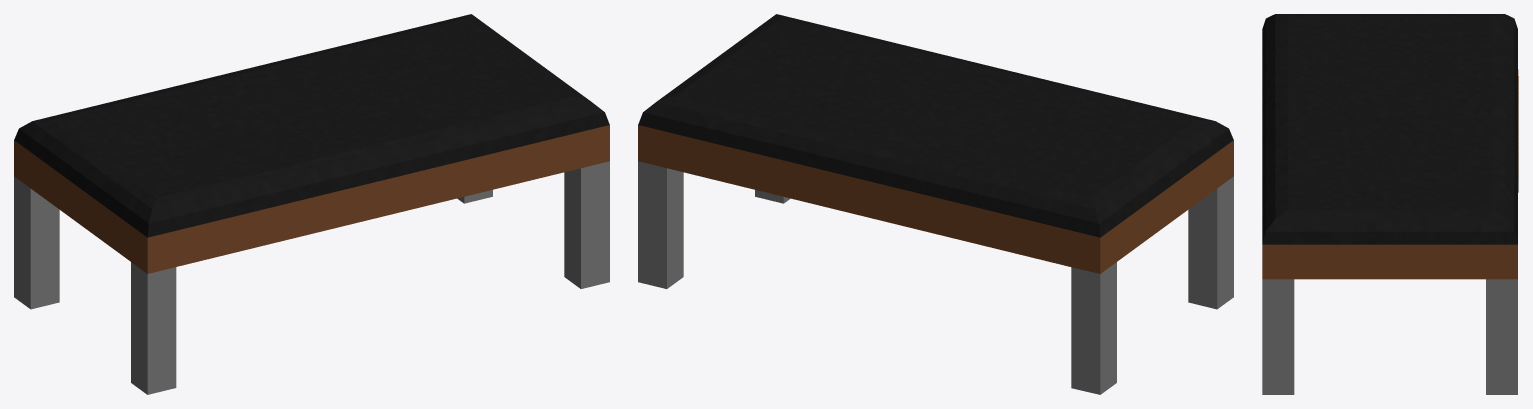
File: bench.fbx
3 renders of one model, left to right at view 1: azimuth 30°, elevation 25°; view 2: azimuth 150°, elevation 25°; view 3: azimuth 270°, elevation 25°, orthographic. The views are drawn at different scales.
Parts seen in each view (by area): view 1: Cube; view 2: Cube; view 3: Cube.
Boxes of the visible parts, box(x1,y1,x2,y2) form: Cube: box(14, 14, 609, 394); Cube: box(638, 14, 1233, 394); Cube: box(1262, 14, 1518, 394).
Size of the model in its own units: 200 by 75 by 100.
